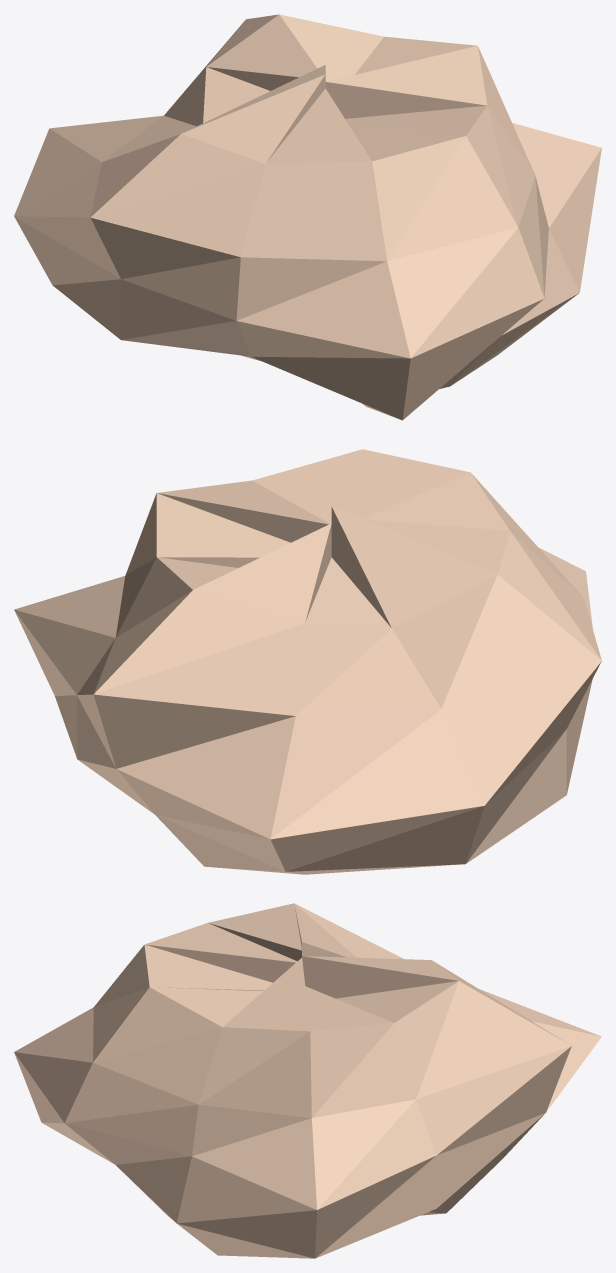
The model's file is rock_035.obj.
The picture shows the model from 3 angles, top to bottom: view 1: azimuth 30°, elevation 25°; view 2: azimuth 150°, elevation 25°; view 3: azimuth 270°, elevation 25°; orthographic projection. The views are drawn at different scales.
Bounding box in the file's own units: 0.8765 × 0.5006 × 0.9397.
